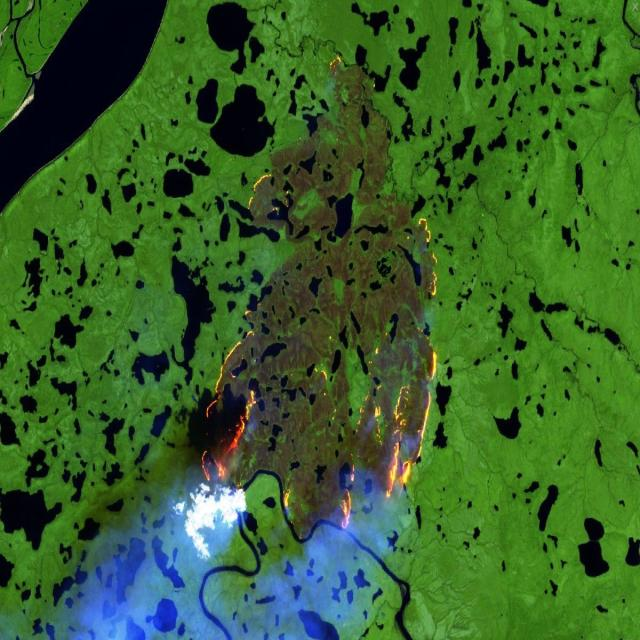fire: (193, 47, 443, 563)
